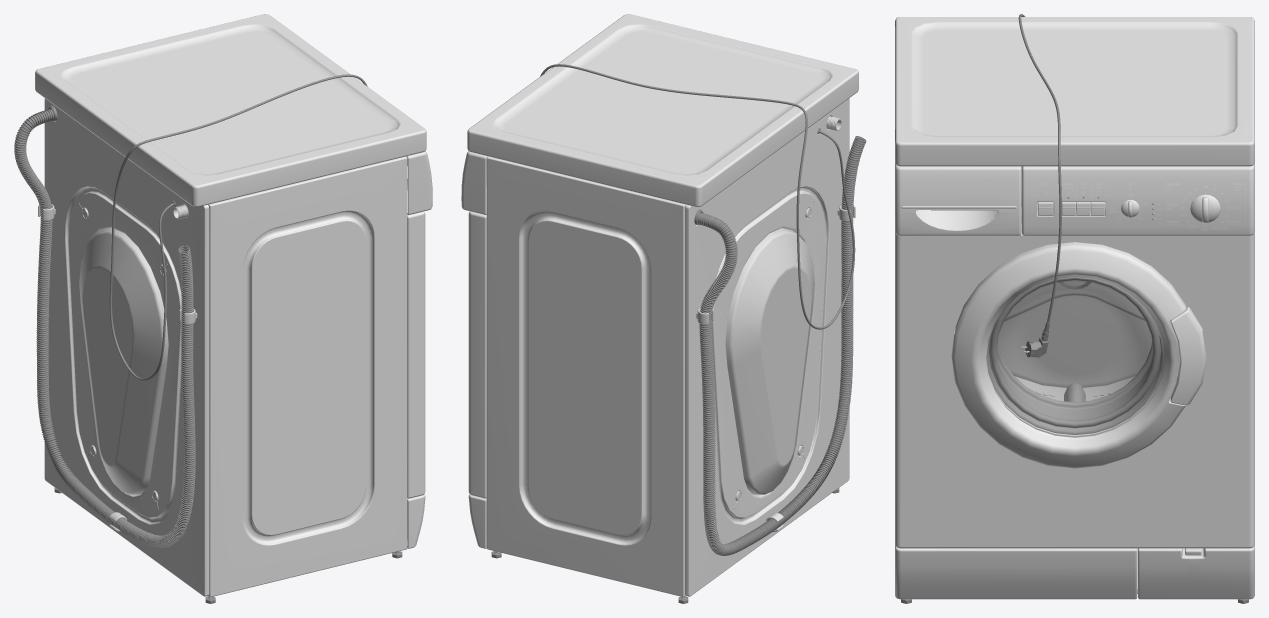
Rendered from washing_machine_new.glb.
The picture shows the model from 3 angles, left to right: view 1: azimuth 30°, elevation 25°; view 2: azimuth 150°, elevation 25°; view 3: azimuth 270°, elevation 25°; orthographic projection. The views are drawn at different scales.
Parts seen in each view (by area): view 1: polySurface135, polySurface119, polySurface145, pCylinder1035, pCylinder1025, polySurface132, pCylinder1039, polySurface131, polySurface140; view 2: polySurface135, polySurface119, polySurface145, pCylinder1035, pCylinder1025, polySurface132, pCylinder1039, polySurface121, polySurface142; view 3: polySurface132, polySurface119, polySurface118, polySurface127, polySurface121, polySurface140, polySurface134, polySurface138, polySurface131, polySurface142, polySurface117, polySurface136 (+5 smaller).
Part boxes in pixels (x1=…): polySurface135: x1=208, y1=156, x2=407, y2=597; polySurface119: x1=35, y1=14, x2=426, y2=206; polySurface145: x1=44, y1=98, x2=209, y2=596; pCylinder1035: x1=79, y1=228, x2=168, y2=494; pCylinder1025: x1=14, y1=108, x2=195, y2=547; polySurface132: x1=407, y1=211, x2=425, y2=498; pCylinder1039: x1=109, y1=74, x2=367, y2=381; polySurface131: x1=406, y1=151, x2=432, y2=214; polySurface140: x1=407, y1=494, x2=425, y2=548; polySurface135: x1=486, y1=156, x2=685, y2=597; polySurface119: x1=467, y1=14, x2=858, y2=206; polySurface145: x1=685, y1=98, x2=849, y2=596; pCylinder1035: x1=725, y1=228, x2=814, y2=494; pCylinder1025: x1=697, y1=136, x2=866, y2=555; polySurface132: x1=468, y1=211, x2=486, y2=498; pCylinder1039: x1=540, y1=64, x2=855, y2=329; polySurface121: x1=461, y1=151, x2=487, y2=214; polySurface142: x1=468, y1=494, x2=486, y2=548; polySurface132: x1=895, y1=224, x2=1254, y2=548; polySurface119: x1=895, y1=17, x2=1254, y2=166; polySurface118: x1=986, y1=278, x2=1163, y2=436; polySurface127: x1=951, y1=242, x2=1186, y2=468; polySurface121: x1=1022, y1=163, x2=1254, y2=235; polySurface140: x1=895, y1=545, x2=1137, y2=599; polySurface134: x1=998, y1=295, x2=1151, y2=387; polySurface138: x1=986, y1=277, x2=1163, y2=434; polySurface131: x1=895, y1=163, x2=1021, y2=235; polySurface142: x1=1138, y1=545, x2=1254, y2=599; polySurface117: x1=1170, y1=307, x2=1206, y2=405; polySurface136: x1=1004, y1=282, x2=1145, y2=321.
Bounding box in the file's own units: 16.55 × 23.84 × 16.26.
9 materials, 1 textured.
